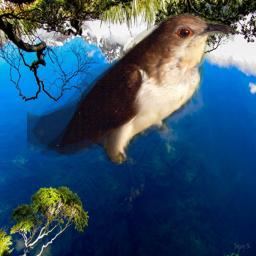Cuckoo: (27, 13, 236, 165)
